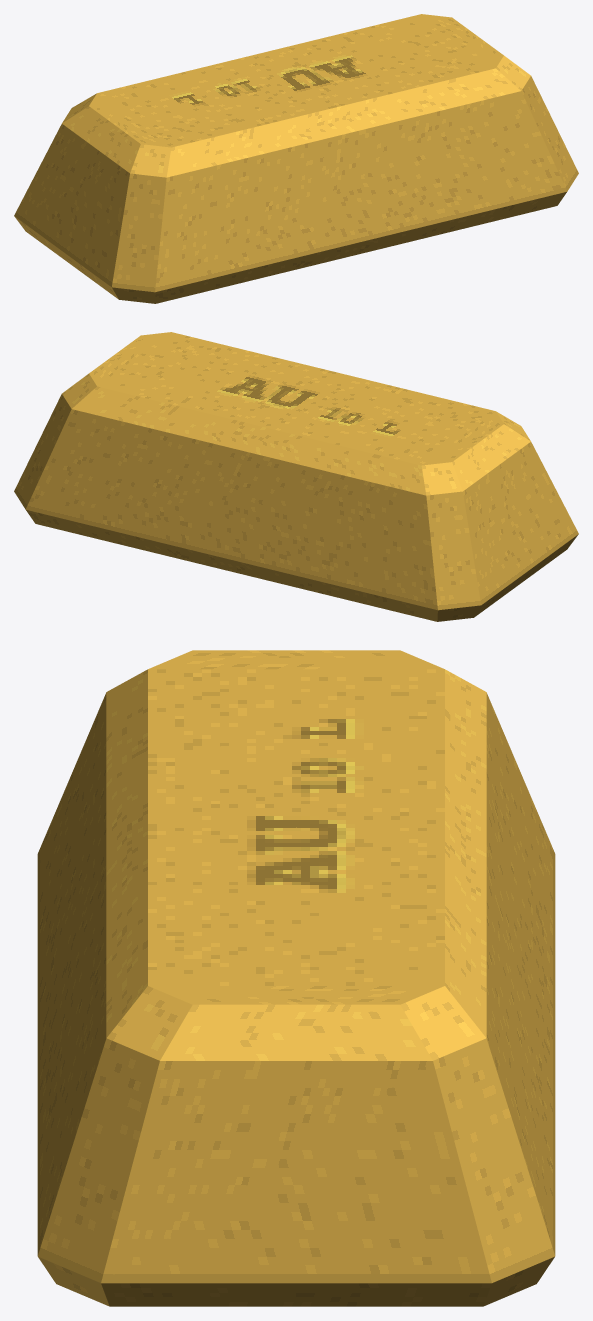
Rendered from 10l_gold.glb.
The picture shows the model from 3 angles, top to bottom: view 1: azimuth 30°, elevation 25°; view 2: azimuth 150°, elevation 25°; view 3: azimuth 270°, elevation 25°; orthographic projection. The views are drawn at different scales.
Visible parts, largest first — view 1: block_one-piece cast ingot; view 2: block_one-piece cast ingot; view 3: block_one-piece cast ingot.
Boxes of the visible parts, x1,y1,x2,y2 form: block_one-piece cast ingot: (14,14,578,303); block_one-piece cast ingot: (14,332,578,621); block_one-piece cast ingot: (37,650,555,1306).
Size of the model in its own units: 0.39 by 0.1038 by 0.1871.
1 material, 1 textured.
